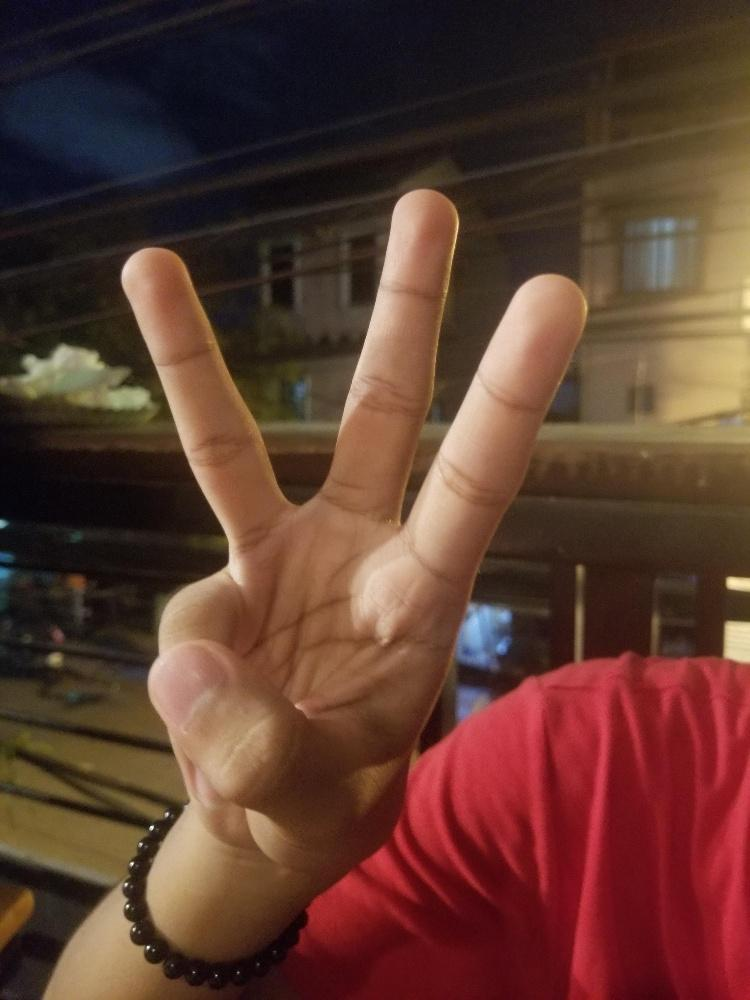w: (118, 183, 591, 880)
